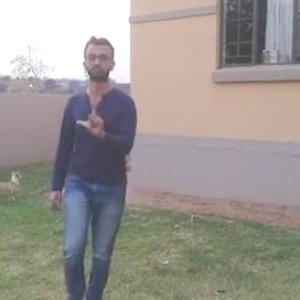land_hand: (74, 95, 108, 138)
